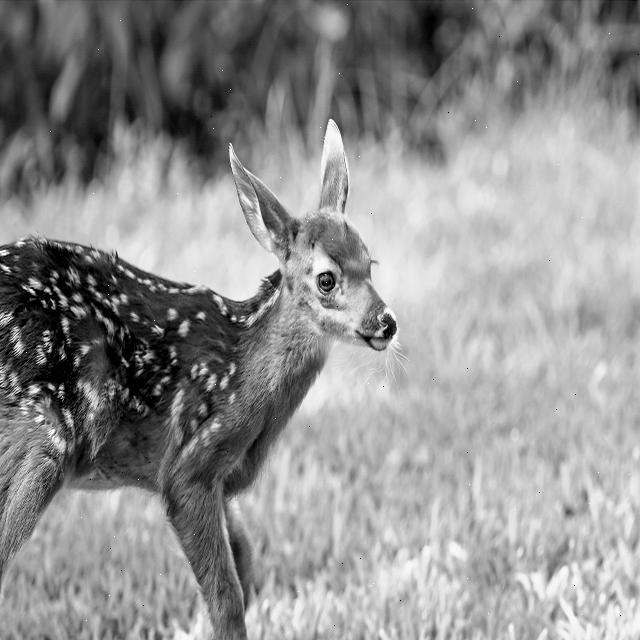deer: (0, 98, 428, 640)
